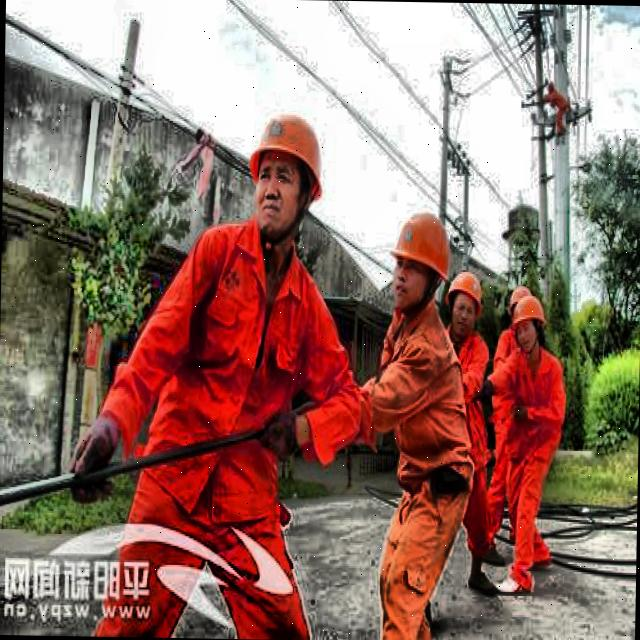helmet: (242, 98, 334, 250), (386, 203, 456, 320), (442, 264, 483, 339), (509, 296, 547, 354)
